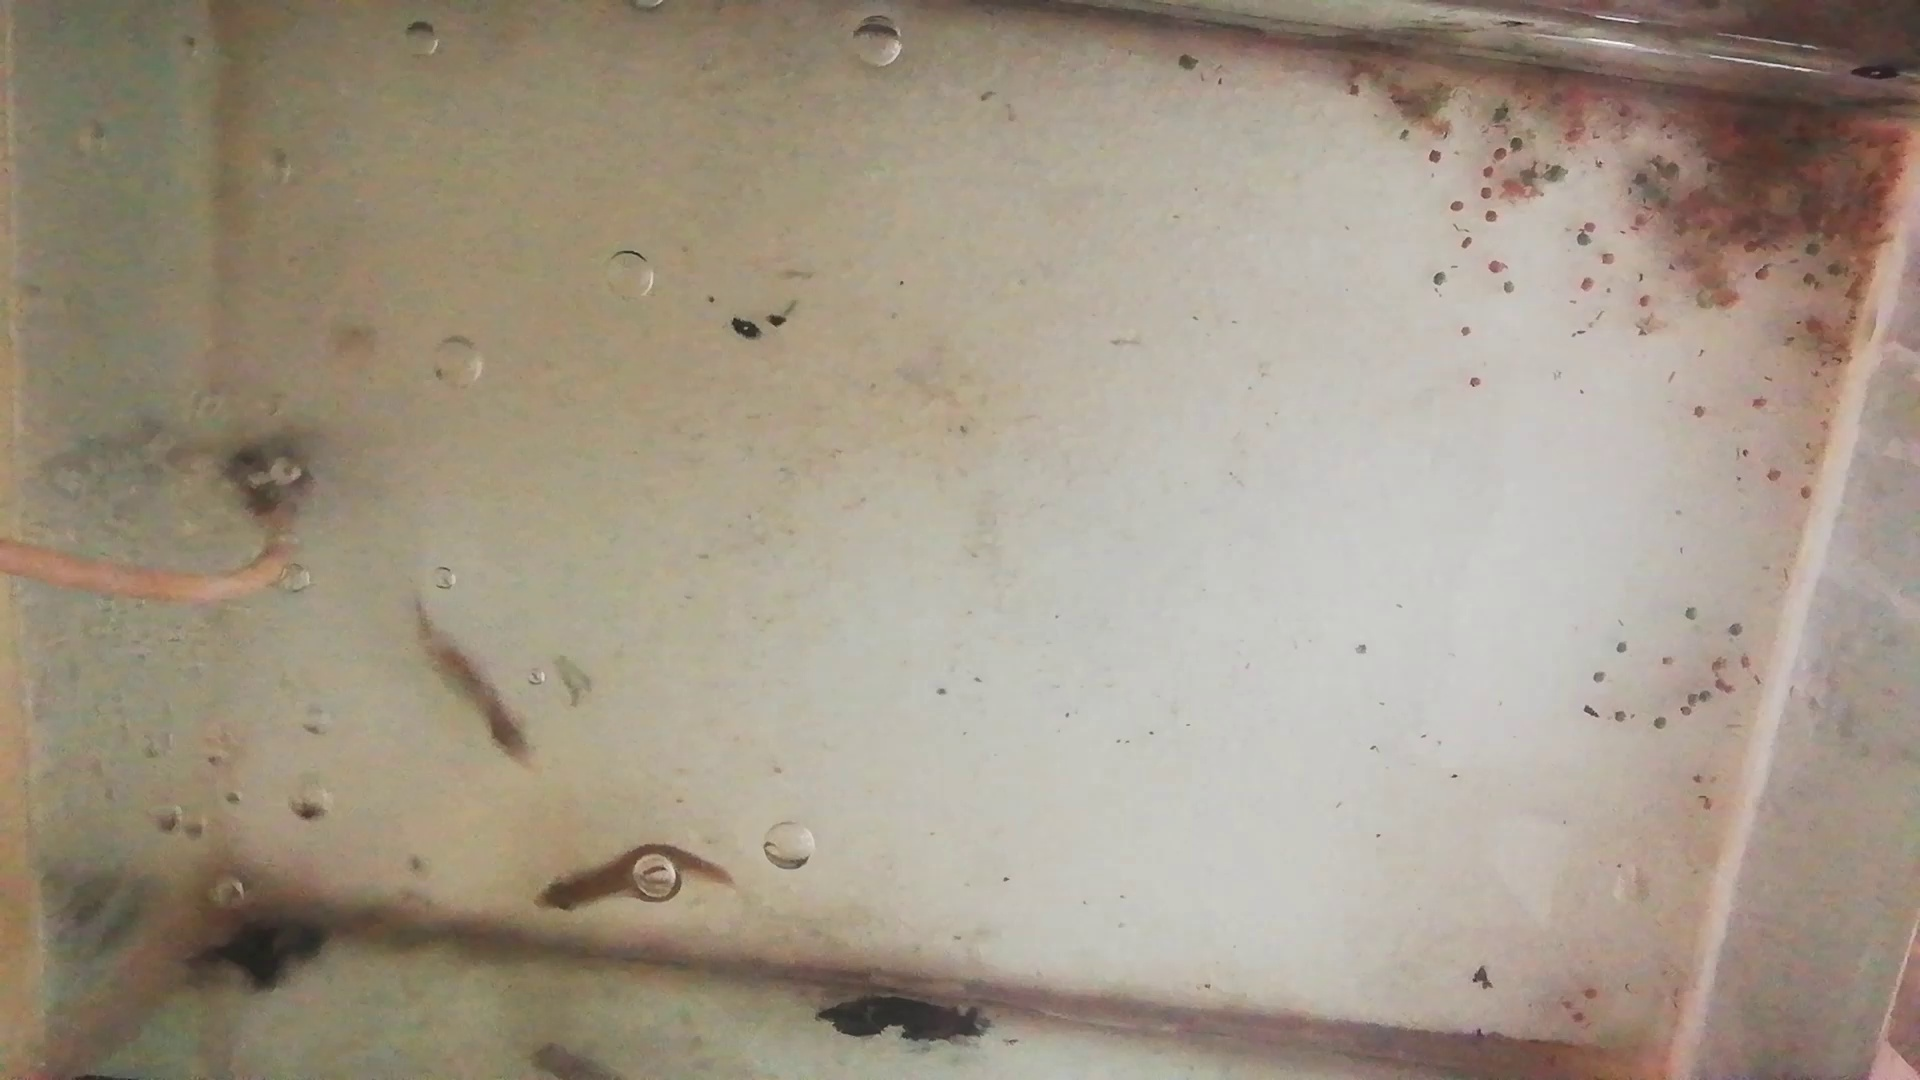fish: (407, 609, 538, 774), (535, 840, 736, 918)
